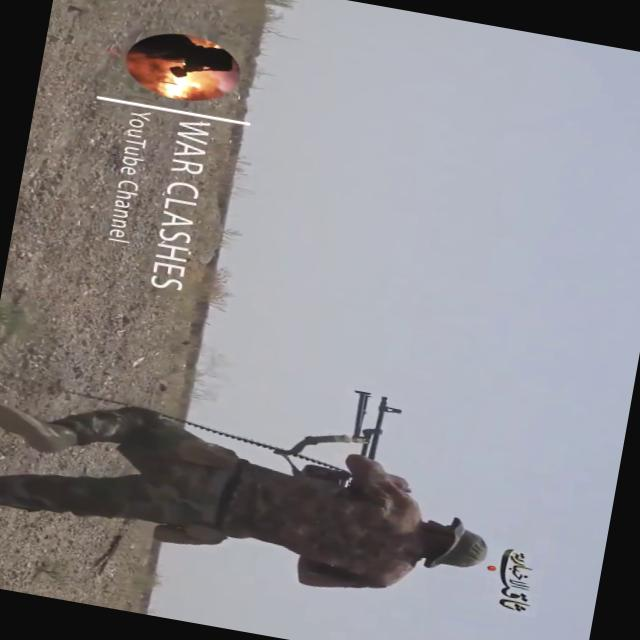long weapon: (315, 365, 426, 505)
